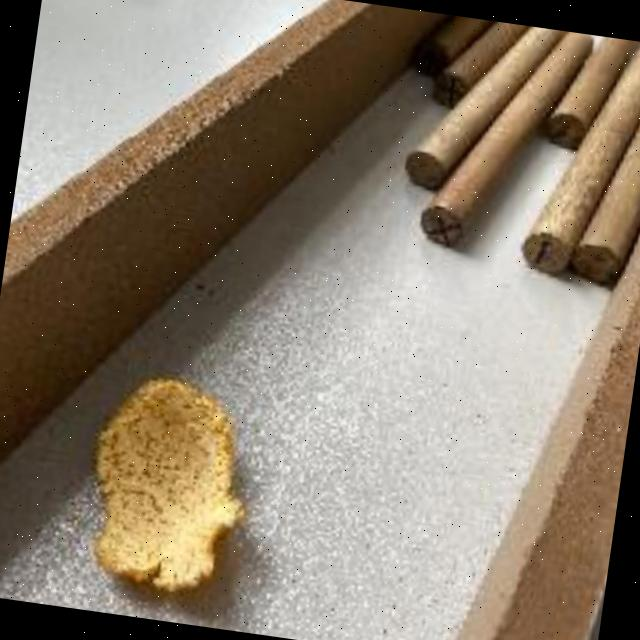orange-peel: (73, 366, 264, 604)
